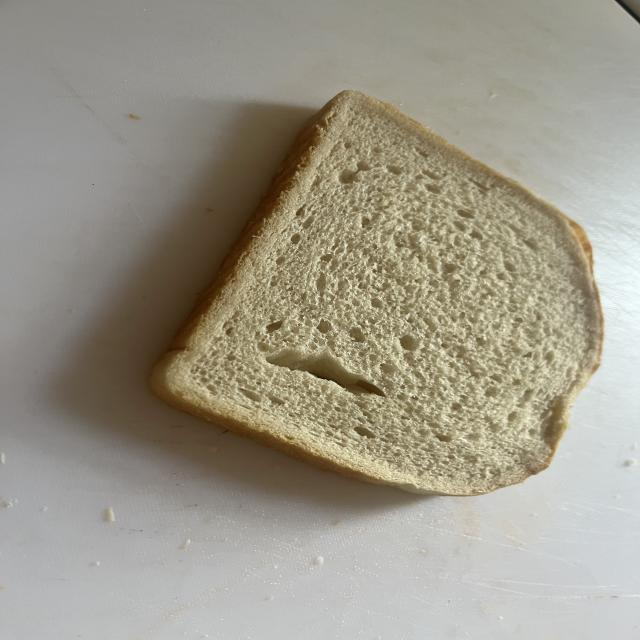sliced_bread: (153, 91, 603, 496)
